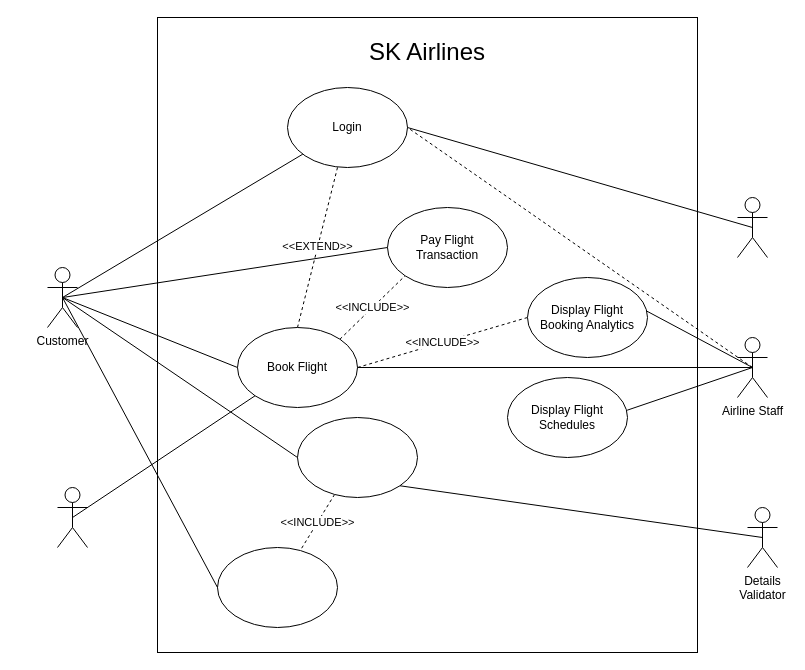
This 805x670 diagram has some shape labels left out. Each missing label, with the centre of its shape:
"Cancel Flight" goes at [277,587].
"Credentials Authenticator" goes at [752,227].
"Payment Processing API" goes at [72,517].
"Track Flight and Luggage" goes at [357,457].
